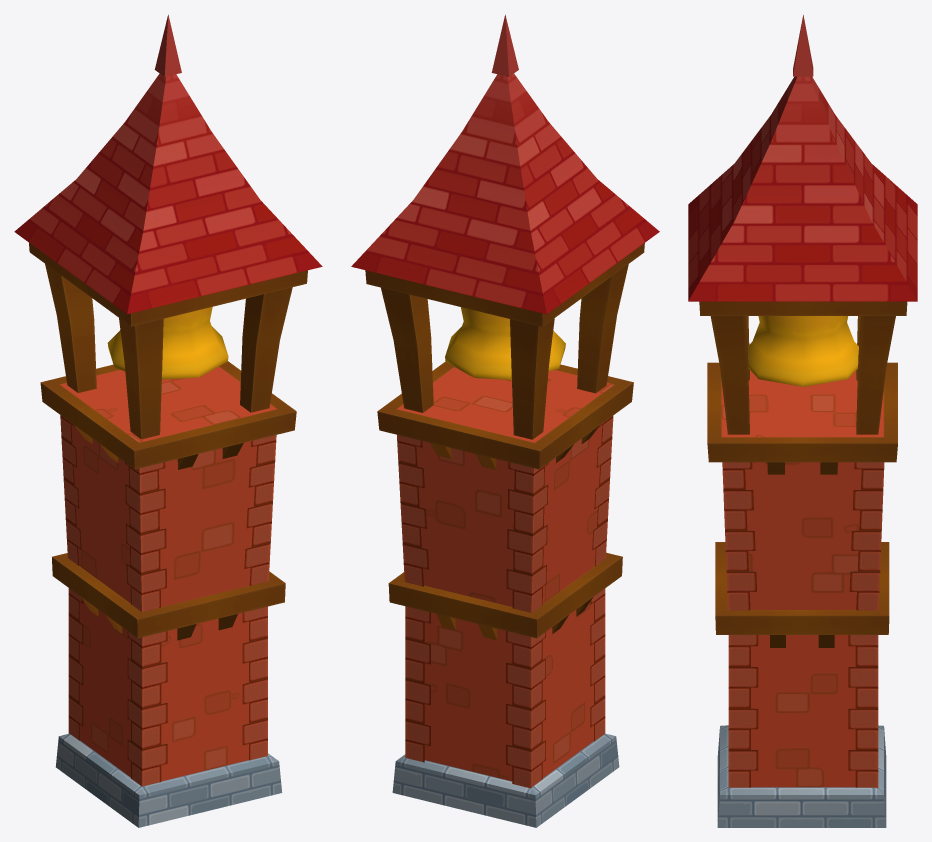
Rendered from HOS0110030.fbx.
The picture shows the model from 3 angles, left to right: view 1: azimuth 30°, elevation 25°; view 2: azimuth 150°, elevation 25°; view 3: azimuth 270°, elevation 25°; orthographic projection.
Parts seen in each view (by area): view 1: smHOS0110030; view 2: smHOS0110030; view 3: smHOS0110030.
Boxes of the visible parts, box(x1,y1,x2,y2) form: smHOS0110030: box(14, 14, 322, 827); smHOS0110030: box(351, 14, 659, 827); smHOS0110030: box(688, 15, 917, 827).
Size of the model in its own units: 243 by 910 by 243.
1 material, 1 textured.
